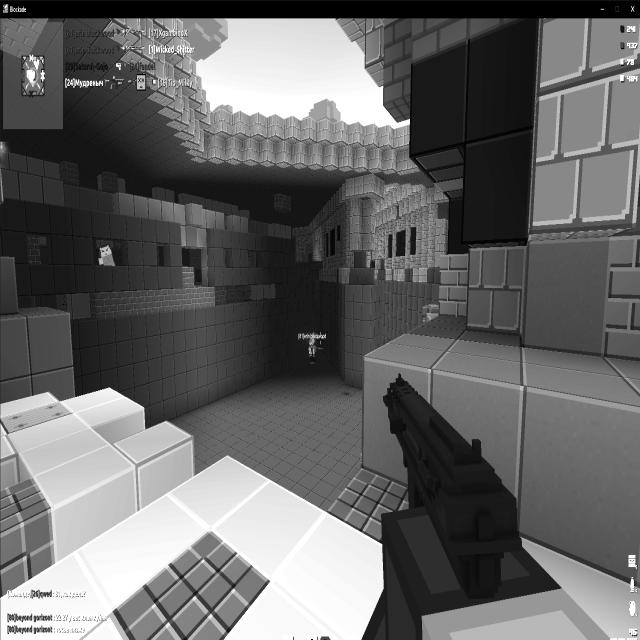Head: (100, 244, 112, 256), (309, 335, 316, 348)
Player: (308, 335, 318, 372), (99, 244, 115, 266)
